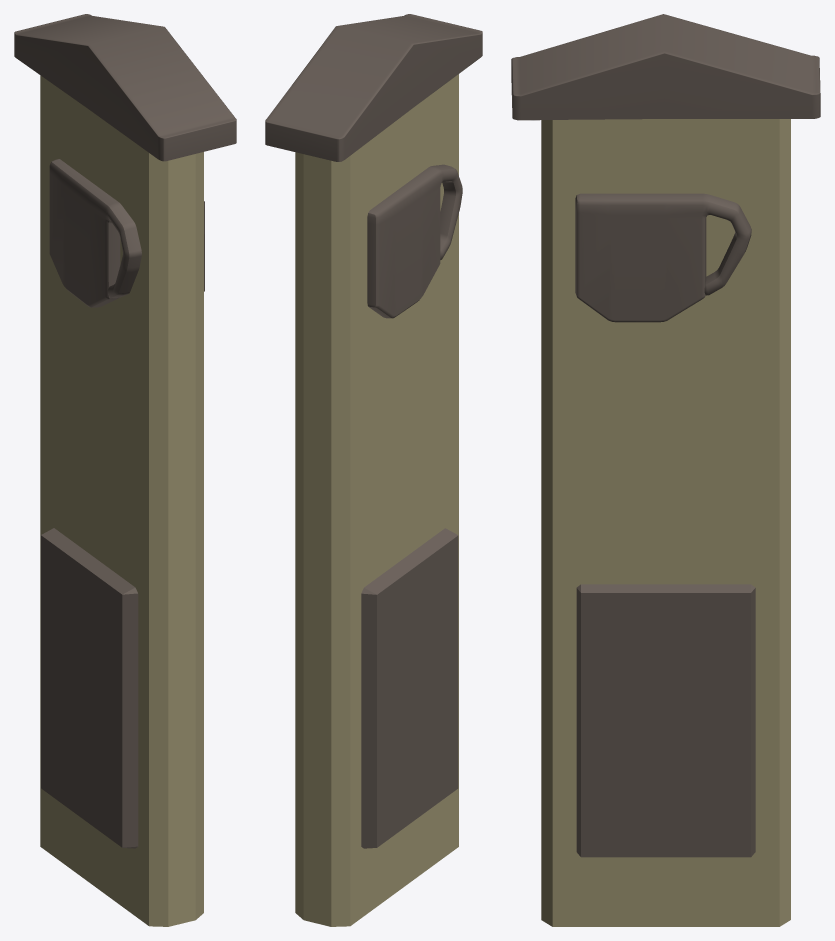
The picture shows the model from 3 angles, left to right: view 1: azimuth 30°, elevation 25°; view 2: azimuth 150°, elevation 25°; view 3: azimuth 270°, elevation 25°; orthographic projection. The views are drawn at different scales.
Visible parts, largest first — view 1: pCube58; view 2: pCube58; view 3: pCube58.
Boxes of the visible parts, left/top/right/bottom form: pCube58: left=14, top=14, right=236, bottom=926; pCube58: left=265, top=14, right=482, bottom=926; pCube58: left=511, top=14, right=820, bottom=926.
Bounding box in the file's own units: 5.24 × 49.97 × 15.88.
